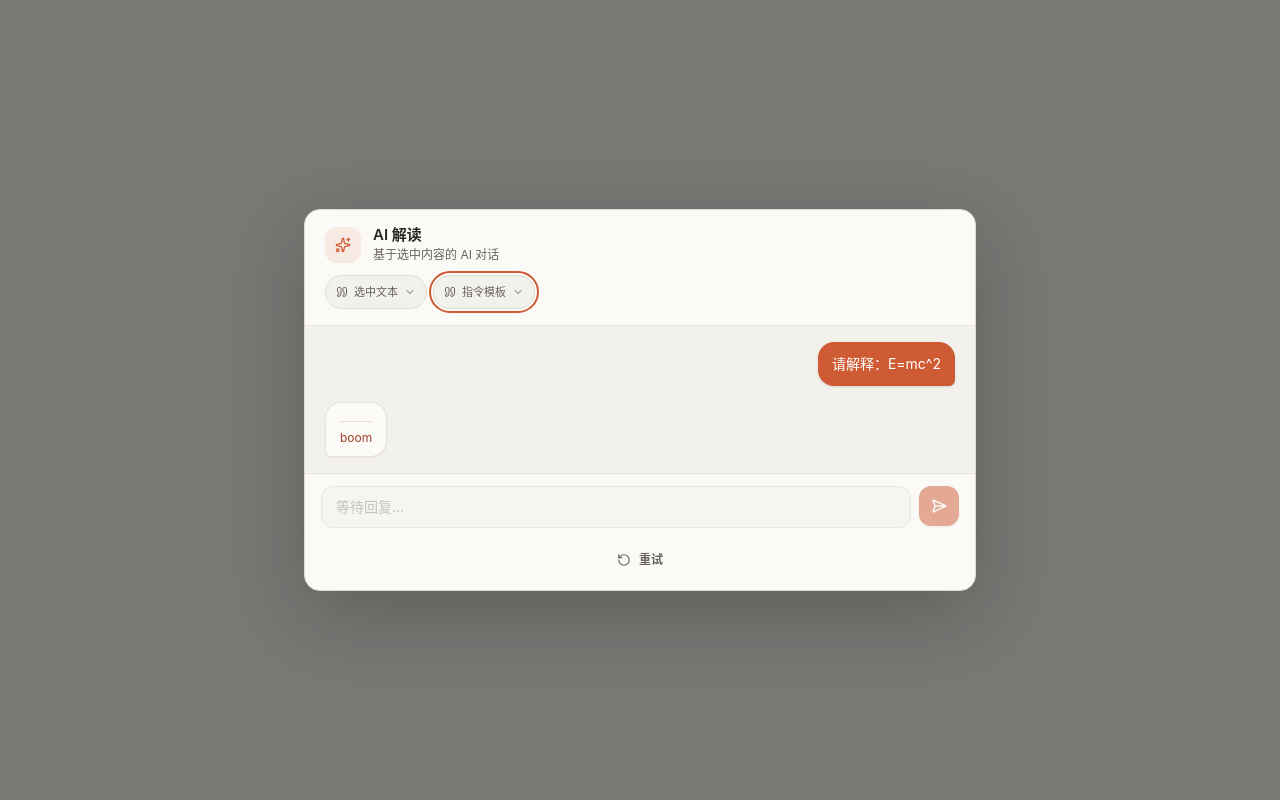
Test: ChatDialog › offers retry when the last assistant reply failed
What coordinates should you click on to do the following:
click the button "重试"
I would click on:
 (640, 560)
Its box is [604,542,676,578].
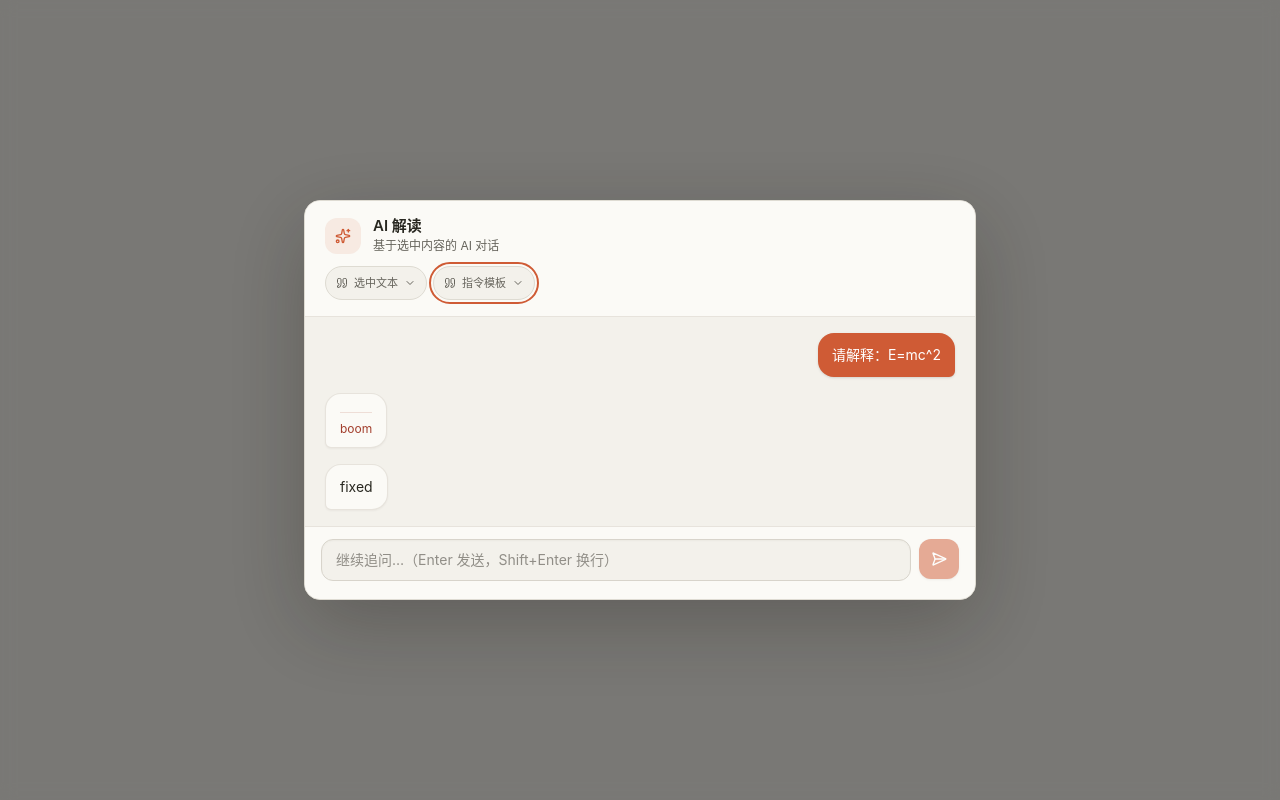
Expected: the text "fixed" is shown, [340,475,373,499]
